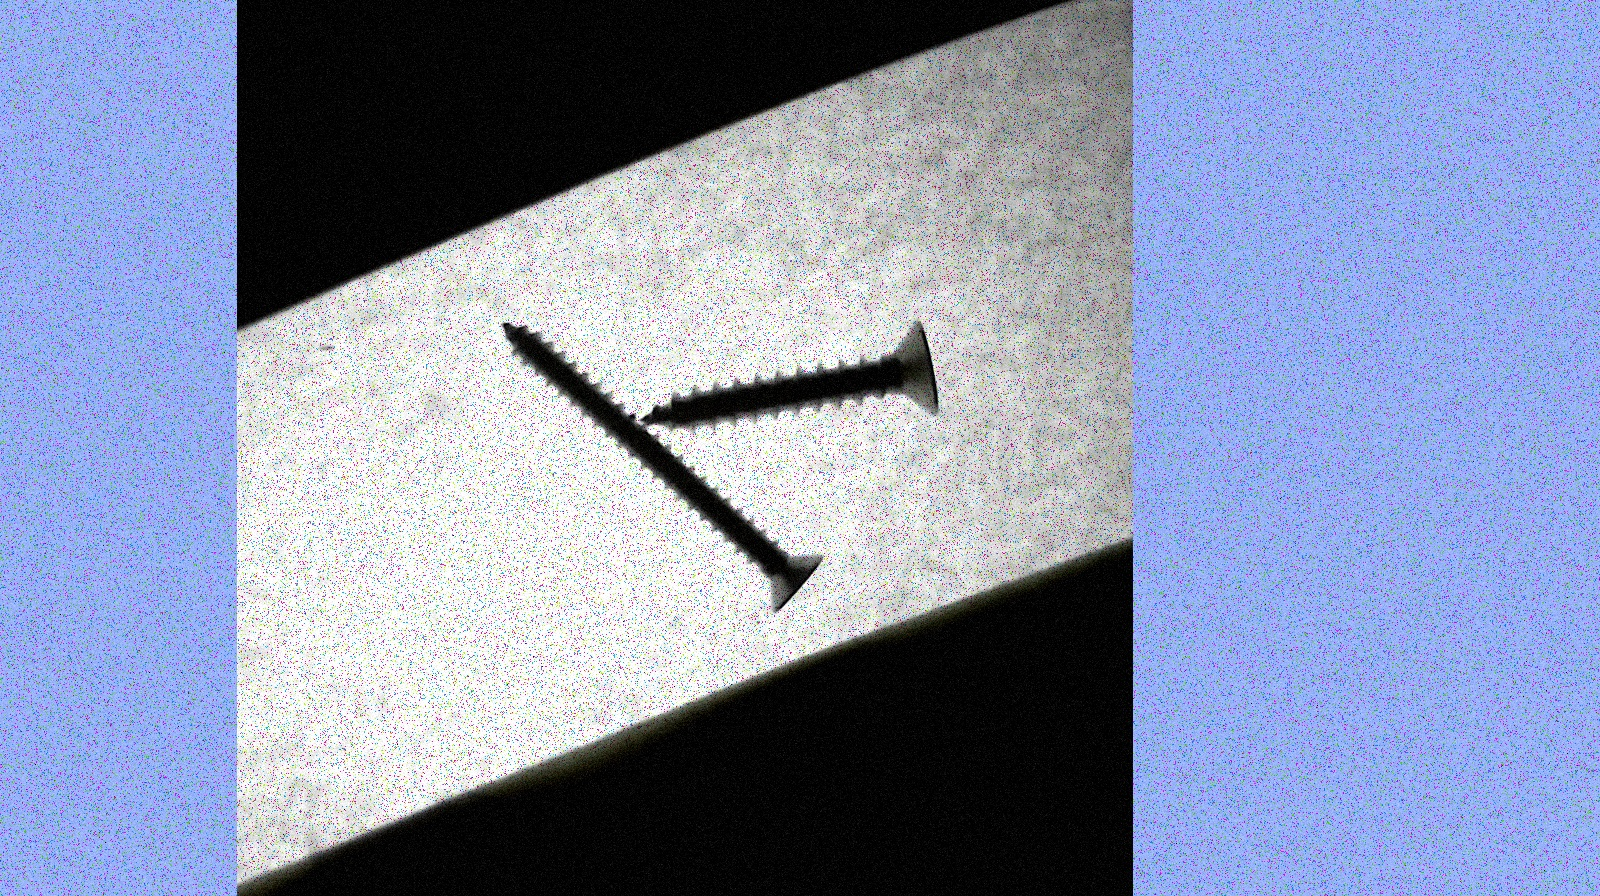S001: (641, 309, 947, 438)
S002: (496, 321, 827, 613)
